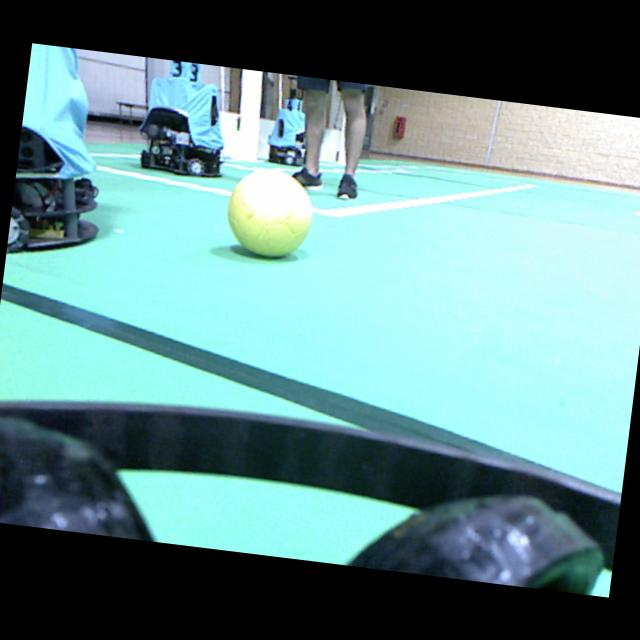ball: (227, 168, 311, 256)
goal: (235, 69, 262, 161)
